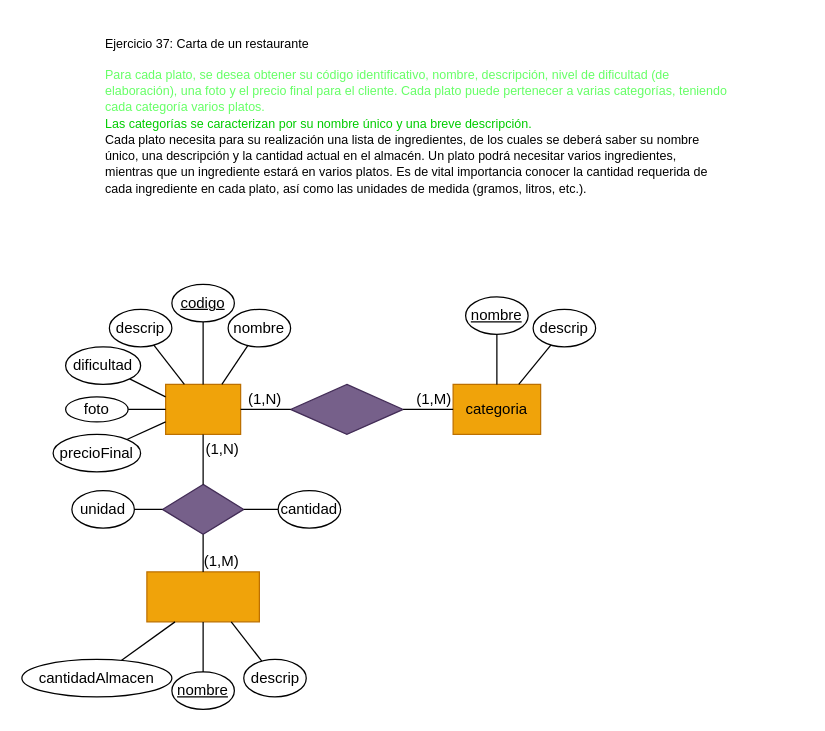
The diagram is 825 pixels wide and 731 high, and some of its shapes have lost their labels. Here are the shapes that lost their labels. From the top down, the box of each, then its label:
(164, 383, 241, 434): plato
(289, 383, 403, 434): pertenece
(161, 483, 244, 534): tiene
(146, 571, 259, 622): ingredientes
